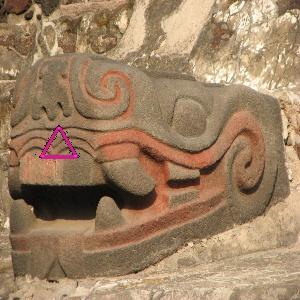triangle: (37, 123, 80, 161)
